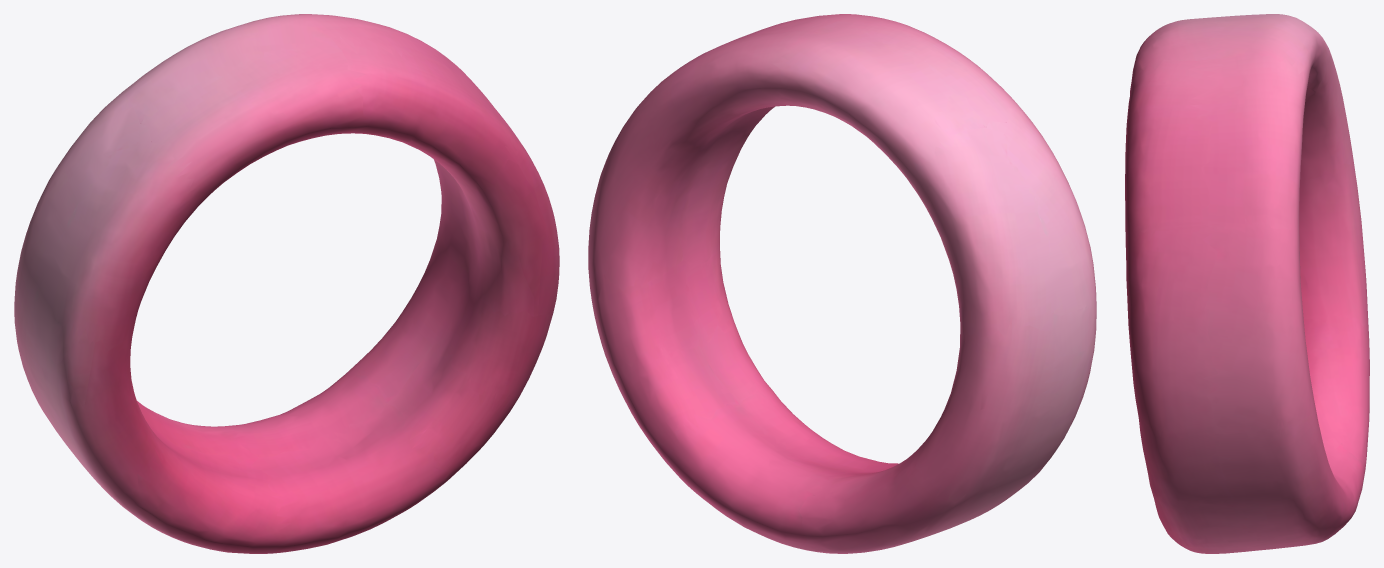
File: hat-headband.glb
The picture shows the model from 3 angles, left to right: view 1: azimuth 30°, elevation 25°; view 2: azimuth 150°, elevation 25°; view 3: azimuth 270°, elevation 25°; orthographic projection. The views are drawn at different scales.
Visible parts, largest first — view 1: tripo_node_83018893-d610-4929-87ae-f5cd8dcffa3f; view 2: tripo_node_83018893-d610-4929-87ae-f5cd8dcffa3f; view 3: tripo_node_83018893-d610-4929-87ae-f5cd8dcffa3f.
Boxes of the visible parts, bbox=[...] form: tripo_node_83018893-d610-4929-87ae-f5cd8dcffa3f: bbox=[14, 14, 559, 553]; tripo_node_83018893-d610-4929-87ae-f5cd8dcffa3f: bbox=[588, 14, 1096, 553]; tripo_node_83018893-d610-4929-87ae-f5cd8dcffa3f: bbox=[1125, 14, 1369, 553].
Bounding box in the file's own units: 0.9972 × 1 × 0.4493.
Materials: 1 (1 with a texture image).
